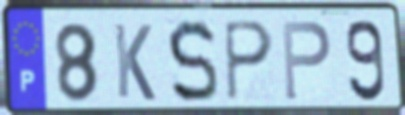8: (52, 21, 100, 105)
9: (344, 18, 387, 102)
K: (111, 21, 158, 104)
P: (221, 19, 276, 105), (279, 19, 333, 103)
S: (164, 17, 220, 106)
